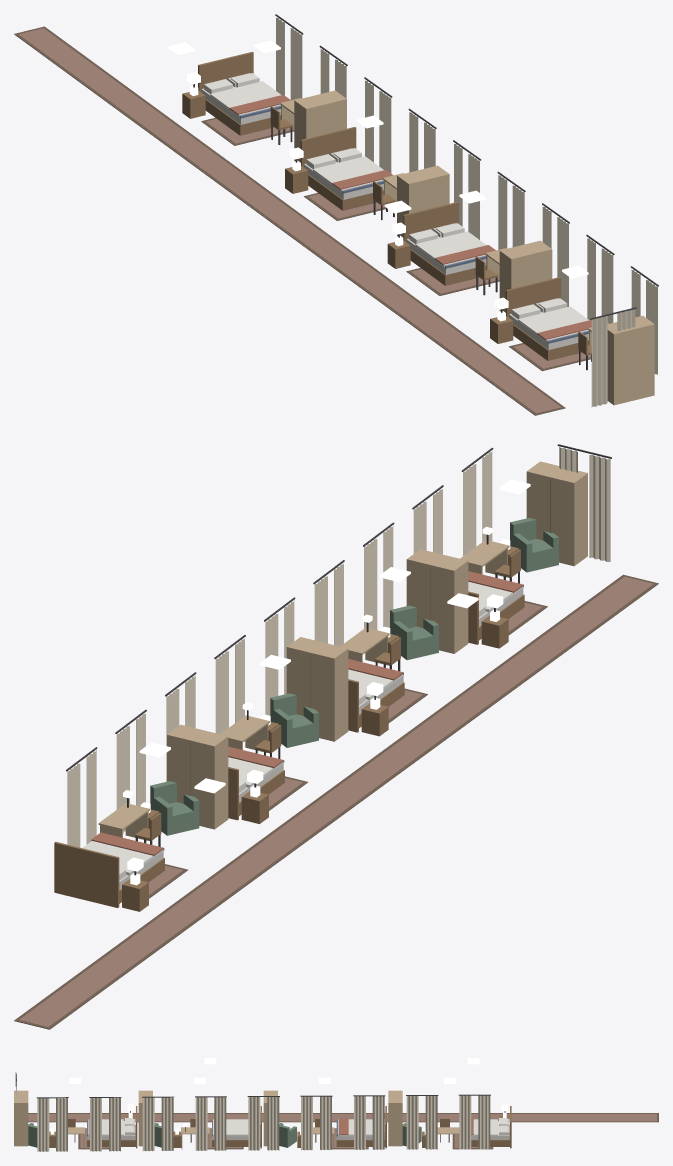
Rendered from fine-s1.glb.
3 renders of one model, top to bottom at view 1: azimuth 30°, elevation 25°; view 2: azimuth 150°, elevation 25°; view 3: azimuth 270°, elevation 25°, orthographic. The views are drawn at different scales.
Visible parts, largest first — view 1: soft-s1, dresser.003, bed-frame.003, bed-frame.002, bed-frame.000, bed-frame.001, dresser.002, dresser.000, dresser.001, nightstand.000, nightstand.001, nightstand.003 (+1 smaller); view 2: soft-s1, dresser.001, dresser.003, dresser.002, dresser.000, bed-frame.000, lounge-chair.000, lounge-chair.002, lounge-chair.003, lounge-chair.001, writing-desk.000, writing-desk.003 (+9 smaller); view 3: soft-s1, dresser.000, dresser.003, bed-frame.000, bed-frame.003, bed-frame.001, bed-frame.002, lounge-chair.001, dresser.002, dresser.001, lounge-chair.003, writing-desk.002 (+4 smaller).
Part boxes in pixels (x1,y1,x2,y2): soft-s1: (14,14,658,415); dresser.003: (607,315,654,405); bed-frame.003: (505,277,588,360); bed-frame.002: (403,202,486,285); bed-frame.000: (198,51,281,135); bed-frame.001: (300,127,383,210); dresser.002: (499,240,552,312); dresser.000: (294,90,346,162); dresser.001: (397,165,449,237); nightstand.000: (182,85,205,118); nightstand.001: (285,160,308,193); nightstand.003: (490,311,513,343); soft-s1: (14,444,658,1029); dresser.001: (286,637,348,741); dresser.003: (526,461,587,566); dresser.002: (406,549,468,653); dresser.000: (167,724,228,829); bed-frame.000: (54,841,164,907); lounge-chair.000: (150,781,199,835); lounge-chair.002: (390,605,438,660); lounge-chair.003: (510,518,558,572); lounge-chair.001: (270,693,318,747); writing-desk.000: (98,790,149,840); writing-desk.003: (460,526,509,577); soft-s1: (15,1072,658,1151); dresser.000: (388,1090,402,1146); dresser.003: (14,1090,28,1146); bed-frame.000: (471,1106,511,1148); bed-frame.003: (87,1106,137,1148); bed-frame.001: (336,1106,386,1148); bed-frame.002: (212,1106,261,1148); lounge-chair.001: (279,1123,296,1147); dresser.002: (138,1090,152,1146); dresser.001: (263,1090,277,1146); lounge-chair.003: (28,1123,37,1147); writing-desk.002: (181,1123,209,1149).
Size of the model in its own units: 3.92 by 2.65 by 27.
